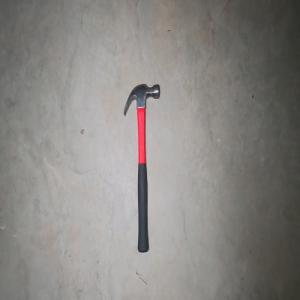Hammer: (122, 81, 160, 254)
